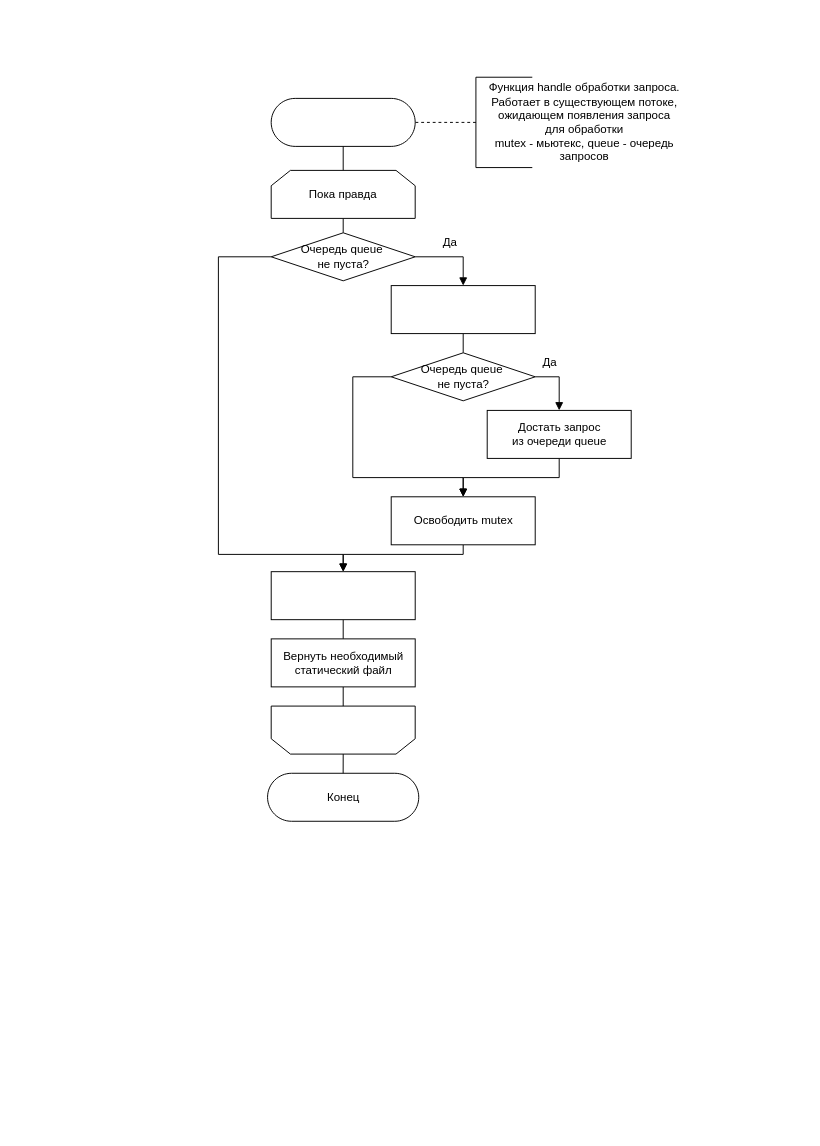
This 820x1146 diagram has some shape labels left out. Each missing label, with the centre of its shape:
Захватить mutex: point (462, 309)
Начало: point (342, 121)
Обработать запрос: point (342, 595)
